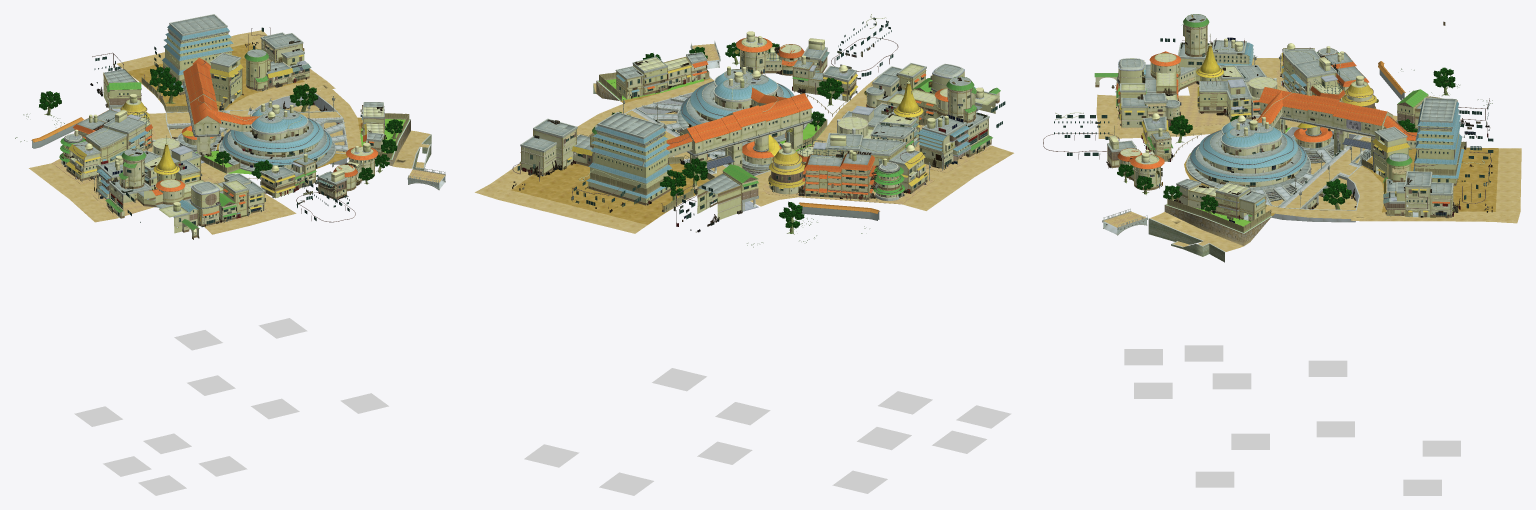
3 renders of one model, left to right at view 1: azimuth 30°, elevation 25°; view 2: azimuth 150°, elevation 25°; view 3: azimuth 270°, elevation 25°, orthographic. The views are drawn at different scales.
Visible parts, largest first — view 1: sa00bbbobj02_001, sa00bbobj11_001, sa00bbbflo00_001, Quad_bbb, sa00eobj04_001, sa00bbart01_001, sa00bbbWindows, sa00bbobj00_001, sa00cobj07_001, sa00tflo00_001, Tree_Leaves_Type_00_007; view 2: sa00bbbobj02_001, sa00bbobj11_001, sa00bbbflo00_001, Quad_bbb, sa00bbart01_001, sa00bbbWindows, sa00eobj04_001, sa00bbobj00_001, sa00lobj03_001, sa00cobj07_001; view 3: sa00bbbobj02_001, sa00bbobj11_001, sa00bbbflo00_001, Quad_bbb, sa00eobj04_001, sa00tflo00_001, sa00bbart01_001, sa00bbbWindows, sa00bbobj00_001, Tree_Leaves_Type_00_007.
Boxes of the visible parts, box(x1,y1,x2,y2) form: sa00bbbobj02_001: box(59, 25, 409, 237); sa00bbobj11_001: box(51, 14, 445, 239); sa00bbbflo00_001: box(29, 30, 444, 234); Quad_bbb: box(74, 318, 388, 495); sa00eobj04_001: box(86, 36, 309, 216); sa00bbart01_001: box(61, 40, 399, 227); sa00bbbWindows: box(62, 27, 373, 224); sa00bbobj00_001: box(73, 94, 370, 212); sa00cobj07_001: box(31, 117, 83, 148); sa00tflo00_001: box(375, 120, 431, 170); Tree_Leaves_Type_00_007: box(289, 83, 318, 106); sa00bbbobj02_001: box(512, 14, 1000, 222); sa00bbobj11_001: box(520, 37, 999, 211); sa00bbbflo00_001: box(475, 60, 1013, 233); Quad_bbb: box(524, 368, 1011, 495); sa00bbart01_001: box(512, 43, 987, 232); sa00bbbWindows: box(517, 17, 1005, 219); sa00eobj04_001: box(588, 69, 925, 202); sa00bbobj00_001: box(726, 31, 984, 167); sa00lobj03_001: box(802, 154, 876, 194); sa00cobj07_001: box(799, 202, 879, 220); sa00bbbobj02_001: box(1043, 14, 1491, 232); sa00bbobj11_001: box(1095, 14, 1457, 235); sa00bbbflo00_001: box(1096, 58, 1521, 252); Quad_bbb: box(1124, 345, 1460, 495); sa00eobj04_001: box(1121, 56, 1459, 213); sa00tflo00_001: box(1148, 205, 1271, 262); sa00bbart01_001: box(1090, 15, 1492, 237); sa00bbbWindows: box(1054, 34, 1493, 216); sa00bbobj00_001: box(1109, 38, 1363, 168); Tree_Leaves_Type_00_007: box(1323, 179, 1351, 204).
Bounding box in the file's own units: 192 × 166 × 211.
33 materials, 33 textured.
